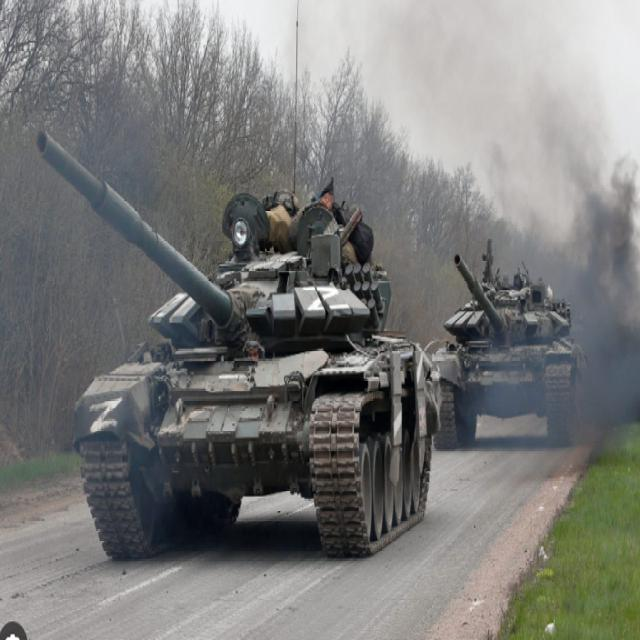TANK: (32, 126, 430, 556), (428, 237, 586, 448)
